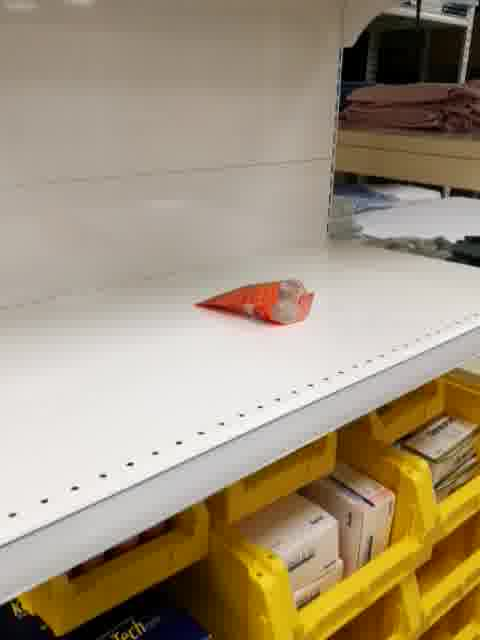whitechia: (193, 279, 314, 327)
